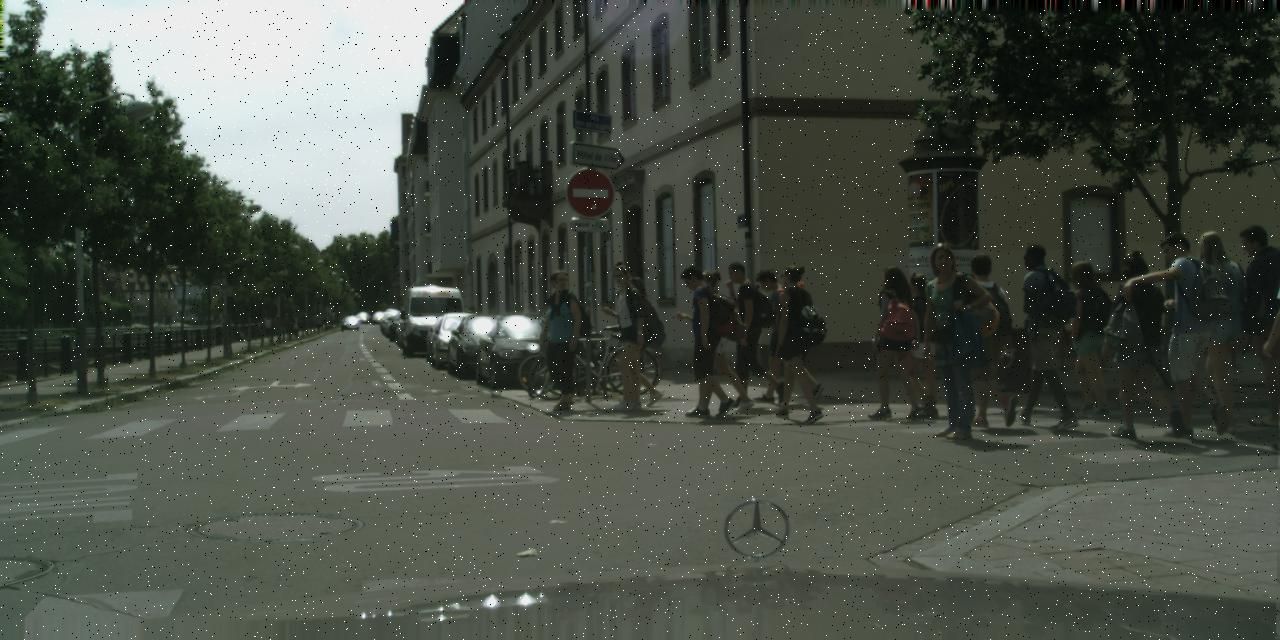ped: (1146, 234, 1229, 435), (1178, 230, 1260, 430), (904, 242, 985, 439), (1104, 249, 1180, 437), (1002, 244, 1076, 427), (952, 253, 1024, 427), (1226, 225, 1279, 426), (1052, 261, 1117, 418), (762, 265, 826, 421), (671, 265, 733, 416), (594, 260, 654, 410), (864, 266, 924, 416), (894, 273, 954, 416), (719, 262, 777, 404), (684, 270, 742, 412), (532, 269, 590, 409), (751, 270, 804, 400), (611, 276, 664, 406), (263, 314, 274, 340), (314, 312, 322, 333), (274, 314, 282, 334), (292, 318, 300, 334), (284, 314, 288, 334)
